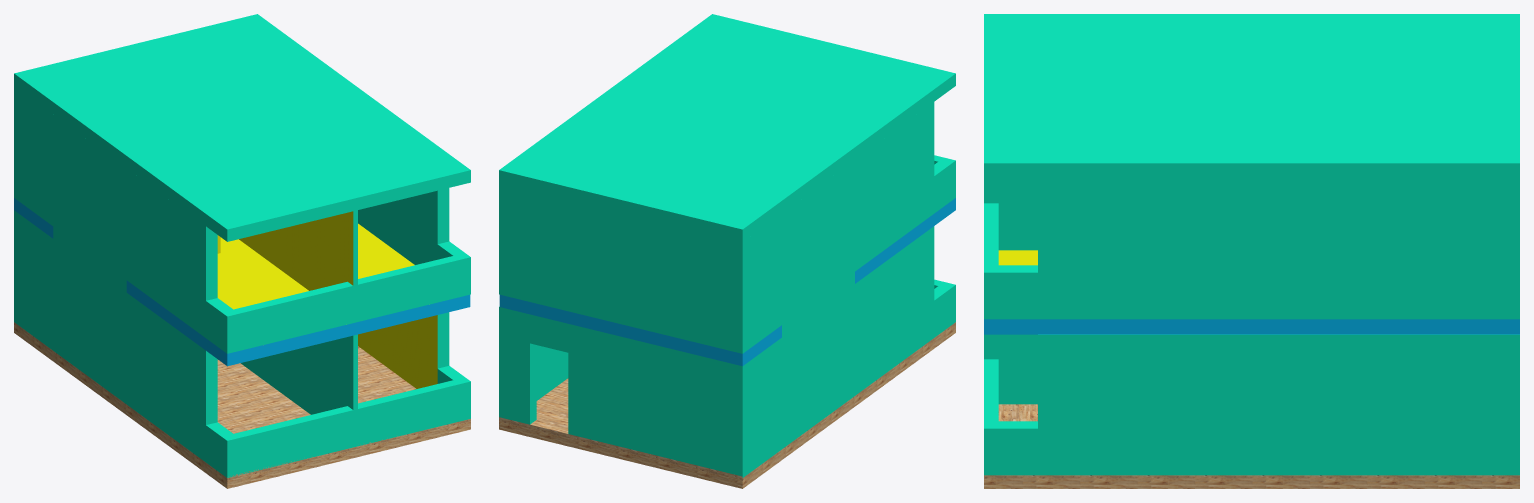
The model's file is Arch.fbx.
3 views of the same model, side by side, from view 1: azimuth 30°, elevation 25°; view 2: azimuth 150°, elevation 25°; view 3: azimuth 270°, elevation 25° (orthographic). The views are drawn at different scales.
Parts seen in each view (by area): view 1: Box014, WallOut_Floor_2, WallOut_Floor_1, floor, Floor_2, WallInner_Floor_2, WallInner_Floor_1; view 2: Box014, WallOut_Floor_2, WallOut_Floor_1, floor, Floor_2; view 3: Box014, WallOut_Floor_1, WallOut_Floor_2, Floor_2, floor, WallInner_Floor_2, WallInner_Floor_1.
Part boxes in pixels (x1,y1,x2,y2): Box014: [14, 14, 470, 241]; WallOut_Floor_2: [14, 86, 470, 353]; WallOut_Floor_1: [14, 210, 470, 477]; floor: [14, 322, 470, 488]; Floor_2: [14, 198, 470, 366]; WallInner_Floor_2: [217, 210, 357, 322]; WallInner_Floor_1: [240, 334, 357, 447]; Box014: [499, 14, 955, 241]; WallOut_Floor_2: [499, 102, 955, 353]; WallOut_Floor_1: [499, 226, 955, 477]; floor: [499, 322, 955, 488]; Floor_2: [499, 198, 955, 366]; Box014: [984, 14, 1519, 178]; WallOut_Floor_1: [984, 334, 1519, 475]; WallOut_Floor_2: [984, 179, 1519, 319]; Floor_2: [984, 250, 1519, 334]; floor: [984, 404, 1519, 488]; WallInner_Floor_2: [984, 179, 1037, 250]; WallInner_Floor_1: [984, 334, 1037, 404].
Bounding box in the file's own units: 6.15 × 6.26 × 9.33.
